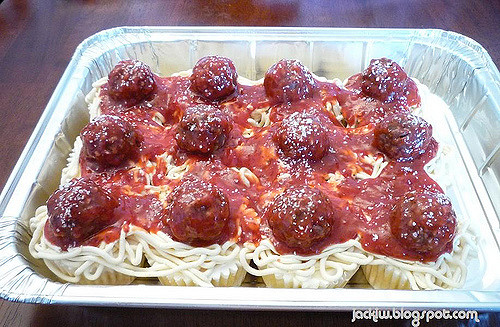plain spaghetti: (91, 245, 234, 274)
